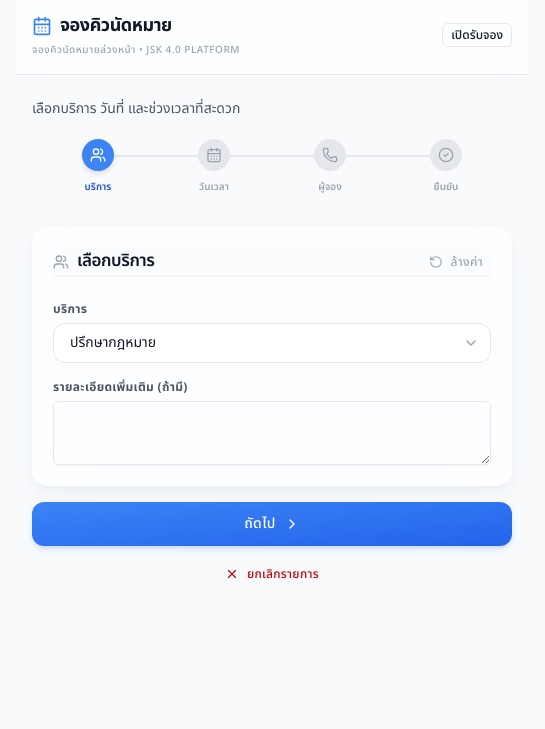
Scenario: date selection › renders one week per page with a week label, not the whole window
This screenshot has width=545, height=729.
Select "ปรึกษากฎหมาย" in the dropdown named "เลือกบริการ". click: [272, 343]
box: [53,323,491,363]
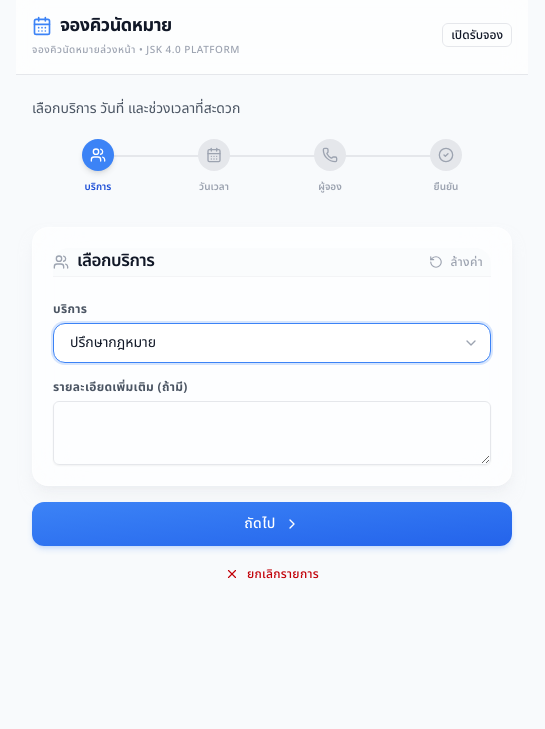
Click the button "ถัดไป". click: [272, 524]
box: [32,502,512,546]
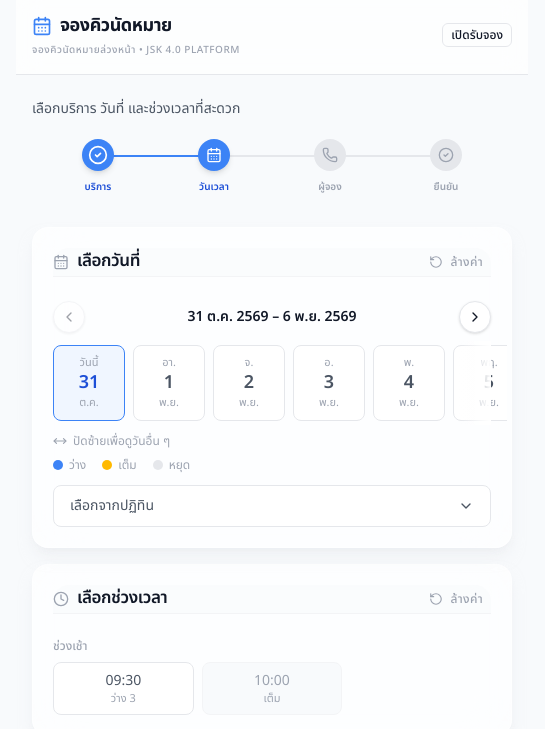
Expected: the button "วันนี้ 31 ต.ค." is shown, [53,345,125,421]
Click the button named "สัปดาห์ถัดไป". click: [475, 317]
box: [459,301,491,333]
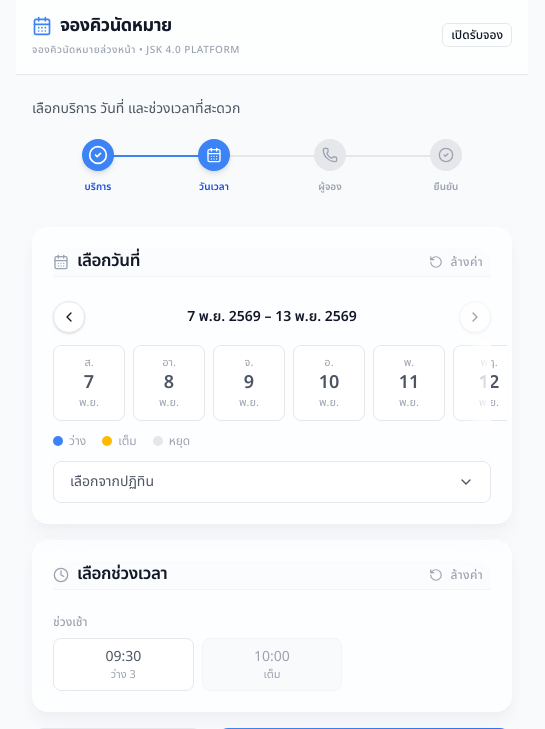
Expected: the button named "สัปดาห์ก่อนหน้า" is enabled, [53,301,85,333]
Expected: the button "วันนี้" is gone
